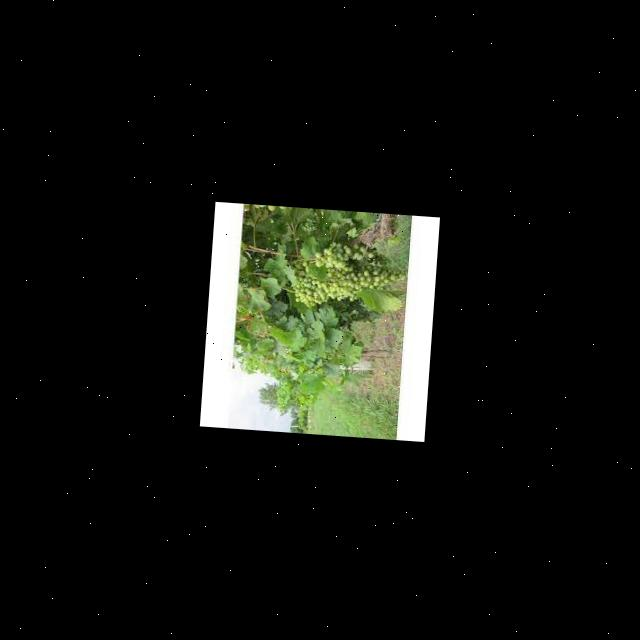grape: (289, 236, 408, 314)
